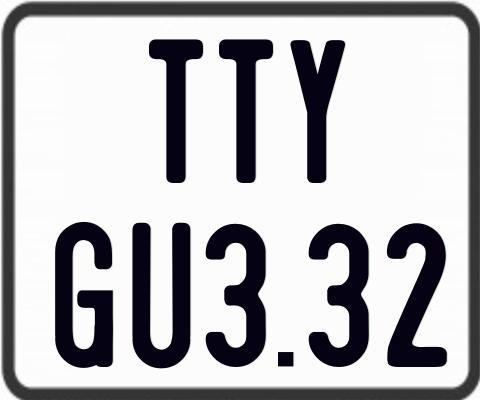2: (386, 220, 446, 365)
3: (309, 224, 374, 370), (204, 222, 267, 367)
G: (55, 222, 117, 373)
T: (218, 38, 278, 184), (147, 37, 203, 183)
U: (131, 223, 194, 368)
Y: (289, 38, 344, 187)
